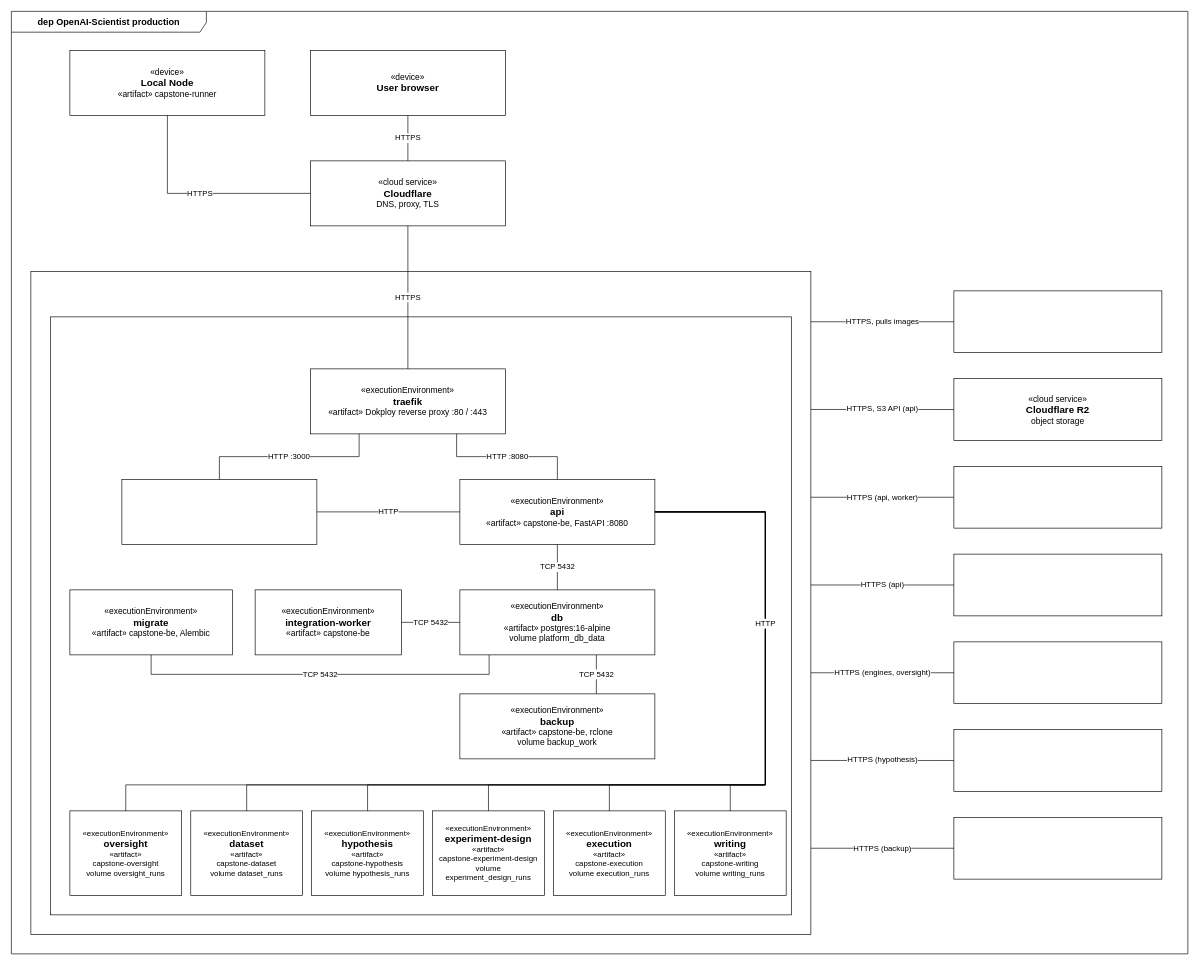
The diagram is 1199 pixels wide and 965 high, and some of its shapes have lost their labels. The shapes that lost their labels are listed below. From the top down, each one's box as (x1, y1, x2, y2) in pixels, then its label:
(953, 290, 1162, 353): «cloud service» Docker Hub
(121, 479, 317, 544): «executionEnvironment» fe «artifact» capstone-fe, Next.js :3000
(953, 466, 1162, 528): «cloud service» Google APIs sign-in, Drive
(30, 271, 811, 934): «device» Linux VPS
(953, 553, 1162, 616): «cloud service» Resend email
(50, 316, 791, 915): «executionEnvironment» Docker Engine (Dokploy, network capstone-net)
(953, 641, 1162, 704): «cloud service» LLM providers OpenAI, Gemini, OpenRouter
(953, 729, 1162, 791): «cloud service» Literature APIs OpenAlex, arXiv
(953, 817, 1162, 879): «cloud service» Off-site backup storage rclone remote
